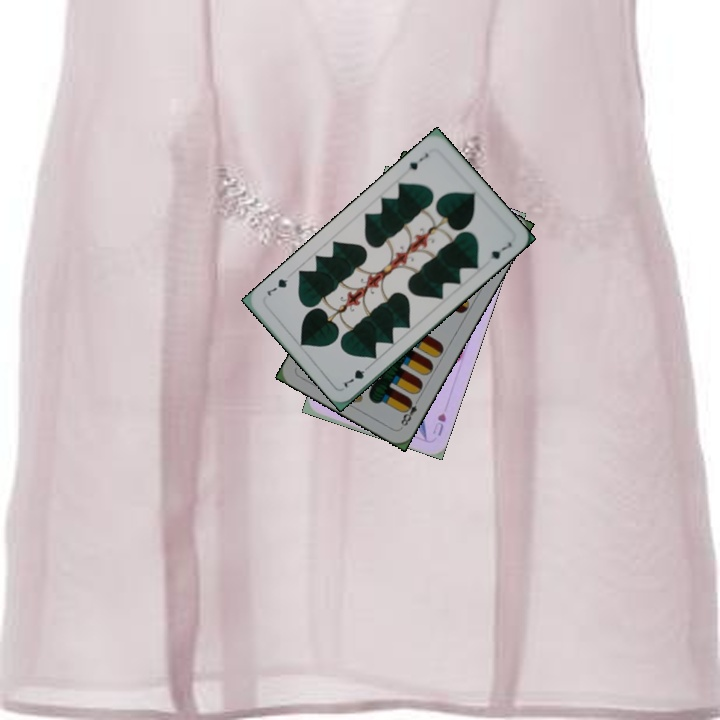E8: (397, 393, 423, 429)
G7: (339, 360, 374, 391), (405, 149, 431, 173)
HU: (428, 409, 449, 439)
